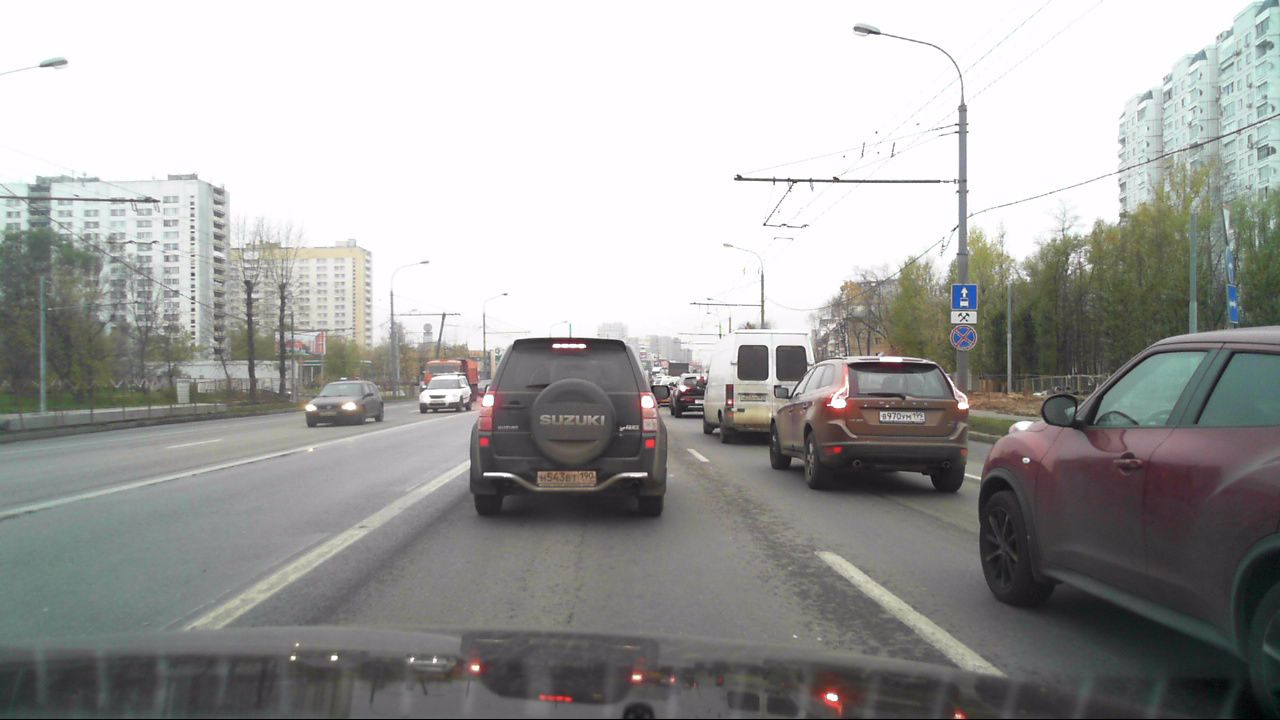No Parking: (950, 324, 978, 352)
